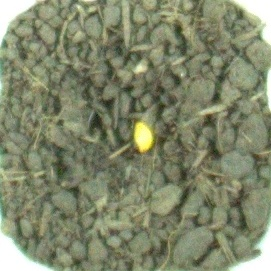pepper seed: (54, 43, 210, 198)
